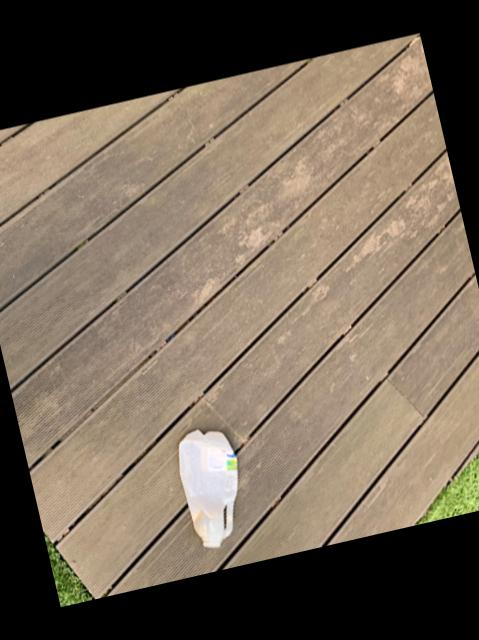plastic: (179, 431, 237, 549)
